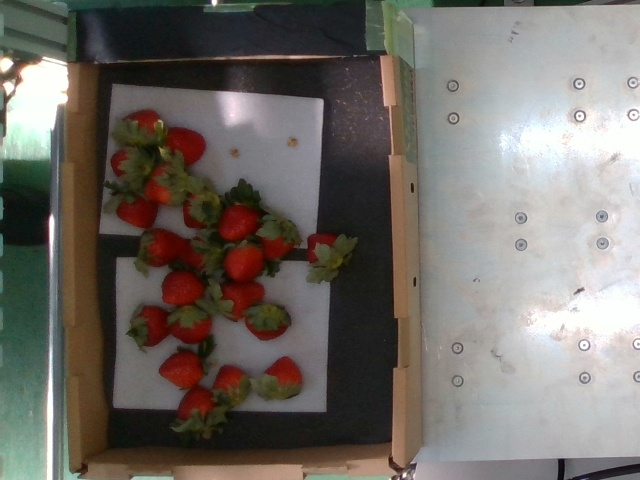strawberry: (219, 280, 267, 323), (138, 227, 187, 267), (143, 162, 185, 204), (168, 306, 214, 344), (136, 306, 178, 347), (120, 109, 163, 149), (163, 128, 207, 167), (160, 351, 204, 389), (177, 387, 218, 427), (264, 358, 303, 400), (225, 242, 263, 283), (259, 219, 295, 262), (184, 188, 221, 229), (247, 304, 288, 341), (219, 202, 258, 240), (211, 365, 248, 405), (161, 270, 203, 305), (117, 193, 157, 229), (180, 237, 217, 274), (306, 232, 341, 271), (111, 149, 149, 183)
